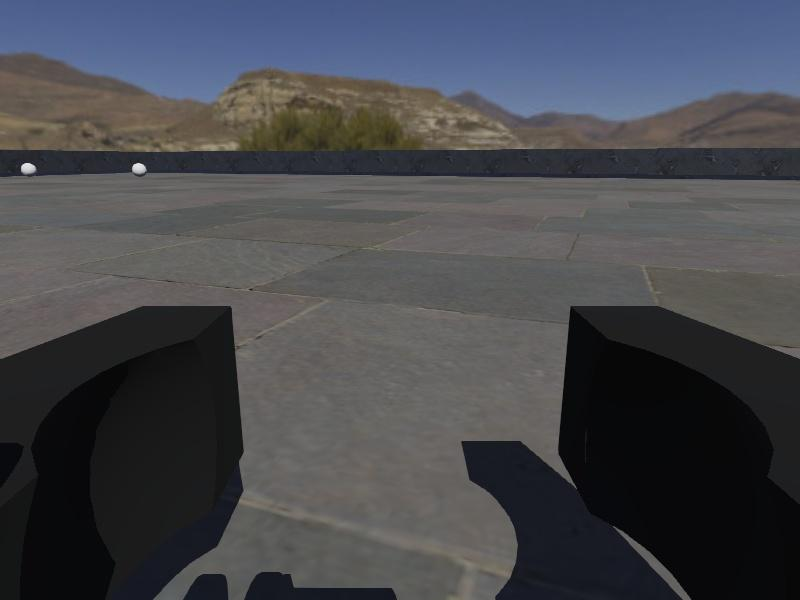white ball: (132, 162, 147, 177), (21, 162, 37, 176)
